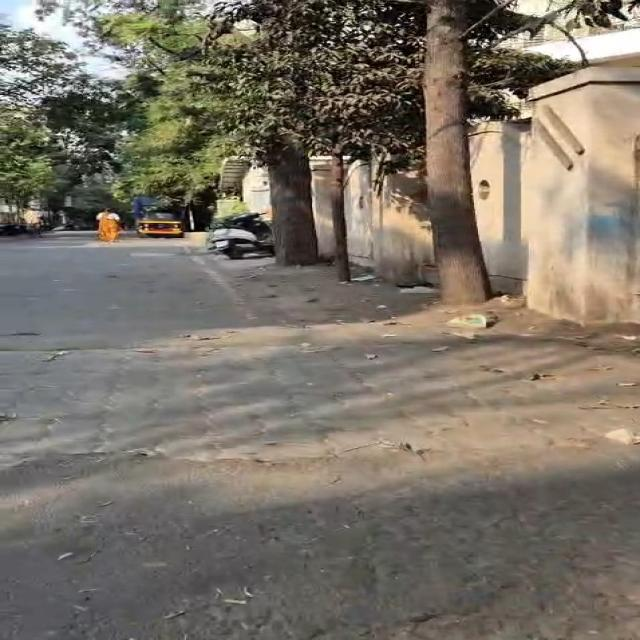obstacle: (424, 0, 491, 304), (268, 143, 318, 265), (331, 147, 350, 282)
person: (97, 208, 120, 242), (23, 208, 42, 235)
